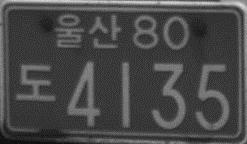0: (162, 15, 190, 51)
1: (119, 59, 135, 130)
3: (149, 61, 188, 129)
4: (65, 60, 103, 129)
5: (193, 62, 231, 132)
8: (132, 13, 159, 51)
도: (14, 62, 58, 103)
울산_O: (53, 12, 122, 49)
